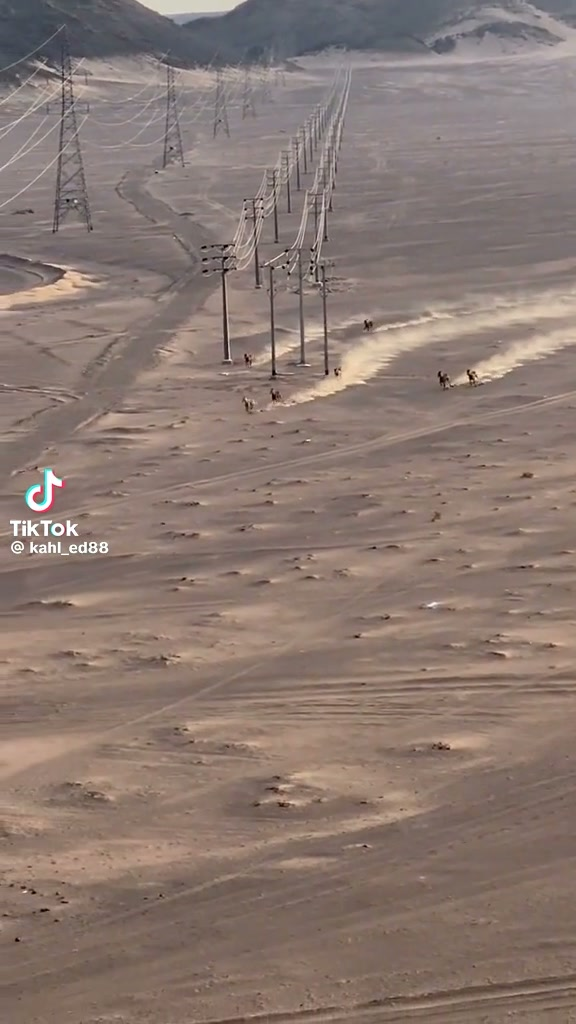animal: (438, 371, 450, 388), (242, 396, 254, 412), (466, 369, 478, 385), (270, 388, 282, 403), (244, 353, 252, 367), (364, 319, 373, 330), (333, 366, 341, 377)
vehicle_track: (139, 390, 575, 502), (11, 651, 270, 783), (46, 653, 268, 763), (73, 848, 273, 967), (209, 975, 575, 1023), (86, 654, 268, 746)
